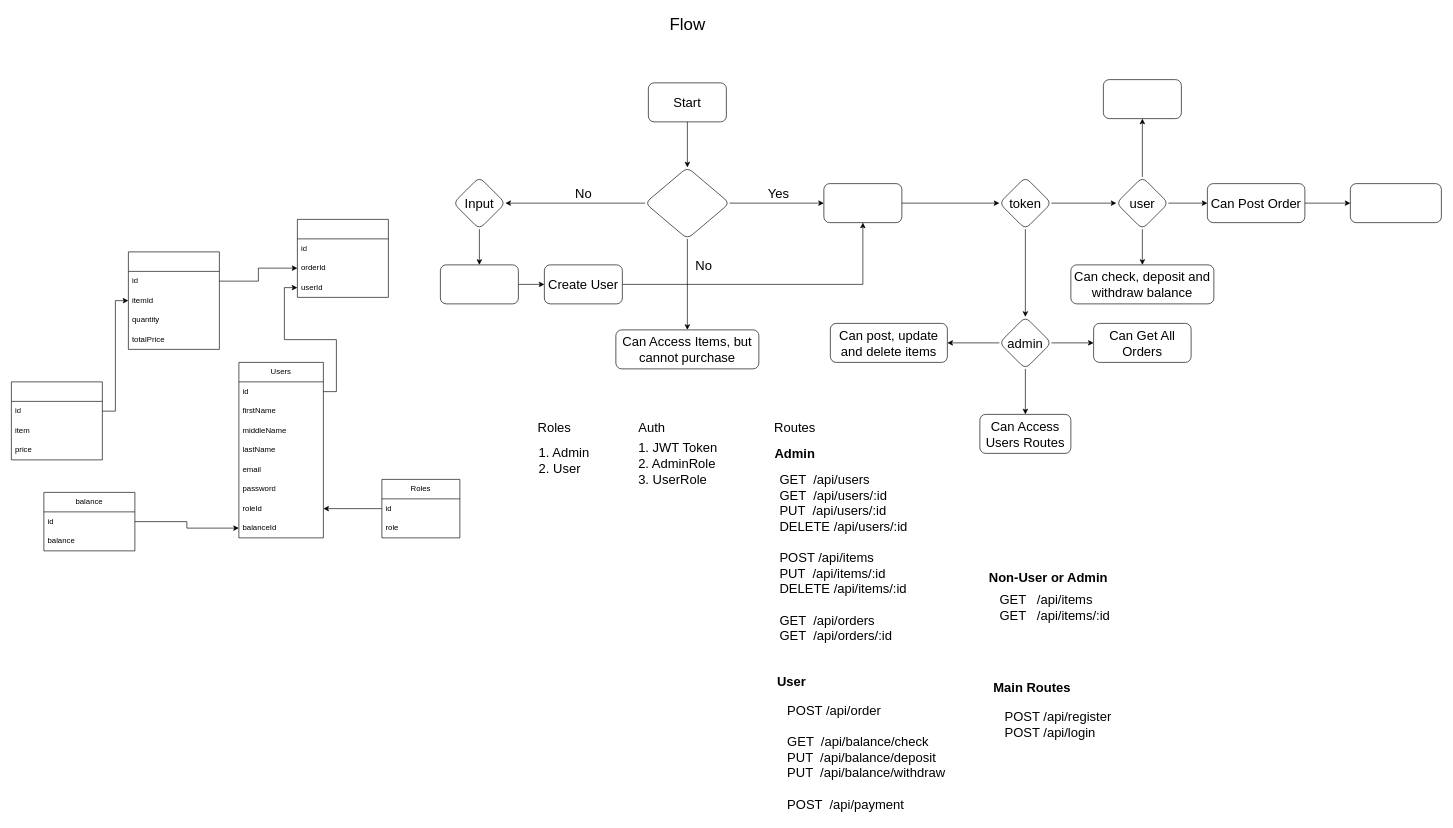
This 1453x828 diagram has some shape labels left out. Each missing label, with the box of its shape:
Can Get All Items: (1103, 79, 1181, 119)
Can Purchase Items: (1350, 183, 1441, 223)
Create Balance: (440, 264, 518, 304)
Items: (11, 381, 102, 460)
Login: (823, 183, 902, 223)
orders: (128, 251, 219, 349)
payment: (297, 219, 388, 297)
Registered: (644, 167, 730, 239)
